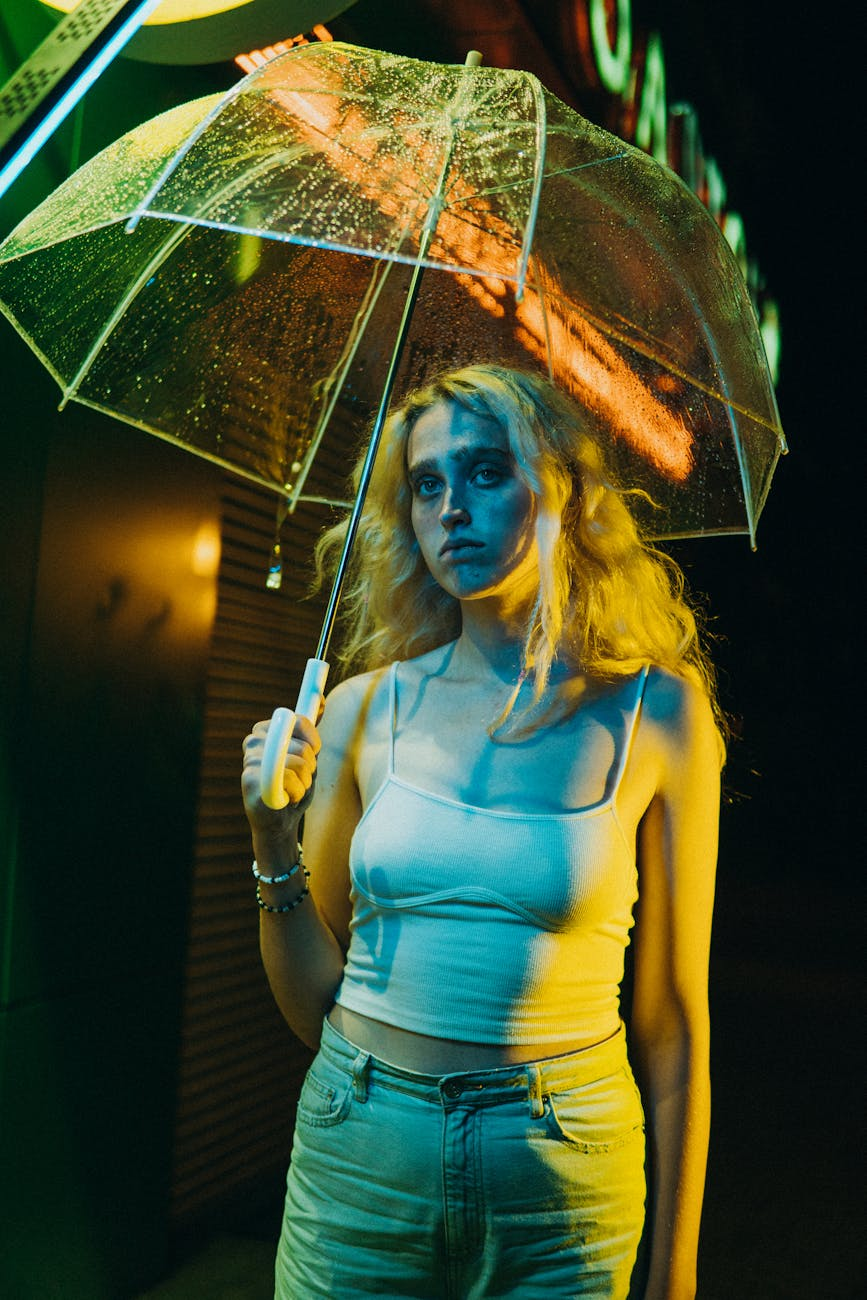crop_top: (301, 648, 674, 1046)
